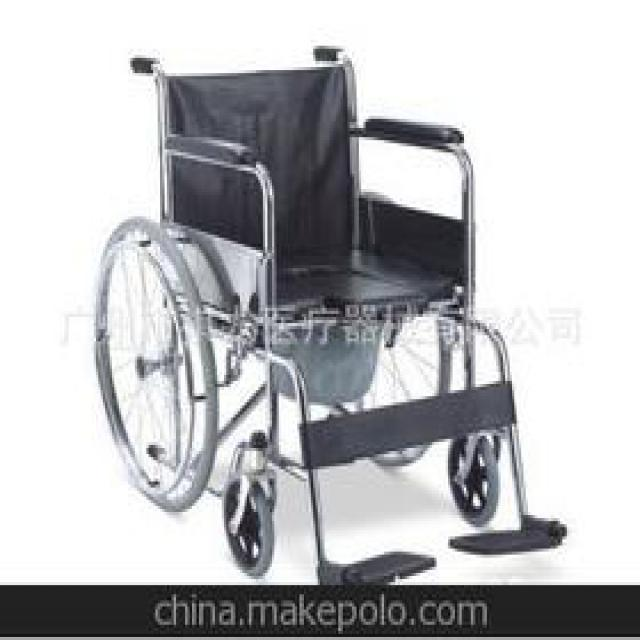wheelchair: (80, 36, 576, 574)
